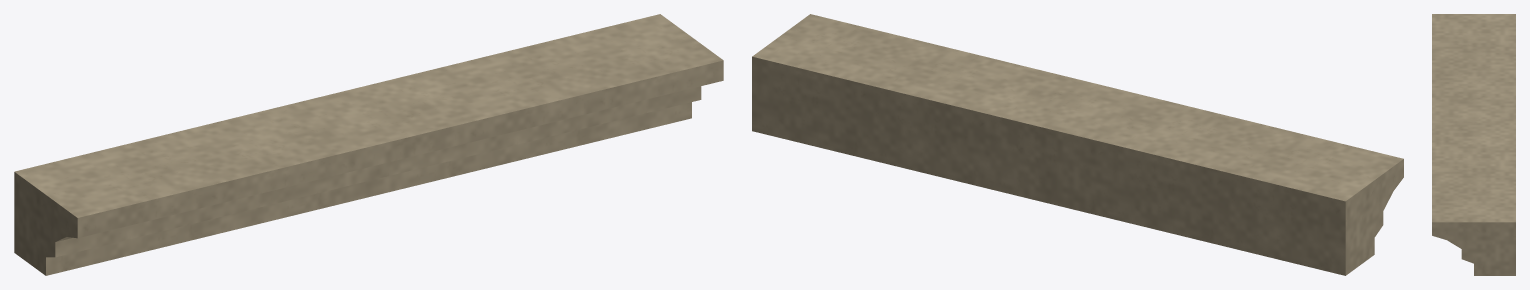
Rendered from heritage-cornice.lod0.glb.
The picture shows the model from 3 angles, left to right: view 1: azimuth 30°, elevation 25°; view 2: azimuth 150°, elevation 25°; view 3: azimuth 270°, elevation 25°; orthographic projection. The views are drawn at different scales.
Parts seen in each view (by area): view 1: heritage-cornice; view 2: heritage-cornice; view 3: heritage-cornice.
Boxes of the visible parts, bbox=[...] form: heritage-cornice: bbox=[14, 14, 723, 275]; heritage-cornice: bbox=[752, 14, 1403, 275]; heritage-cornice: bbox=[1432, 14, 1515, 275].
Bounding box in the file's own units: 2 × 0.24 × 0.34.
Materials: 1 (1 with a texture image).
